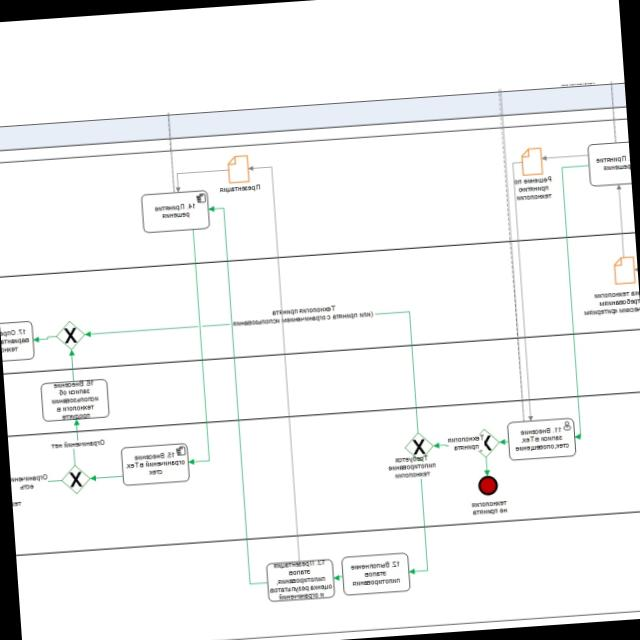arrow: (85, 307, 420, 455), (208, 203, 267, 587), (555, 163, 608, 440), (172, 229, 213, 466), (402, 460, 431, 576), (69, 420, 85, 466), (433, 439, 470, 450), (68, 349, 78, 381), (90, 473, 123, 482), (33, 333, 57, 344), (482, 455, 491, 476), (333, 572, 343, 582), (499, 437, 509, 446)
circle: (474, 472, 501, 500)
diamond: (403, 431, 435, 463), (470, 427, 501, 458), (55, 320, 85, 351), (61, 464, 91, 495)
rectangle: (140, 189, 211, 234), (507, 416, 577, 461), (40, 377, 110, 422), (341, 551, 411, 596), (265, 558, 335, 603), (120, 442, 191, 486)
text_region: (232, 301, 374, 328), (386, 453, 437, 480), (49, 437, 105, 451), (447, 432, 486, 452), (470, 499, 509, 518)
